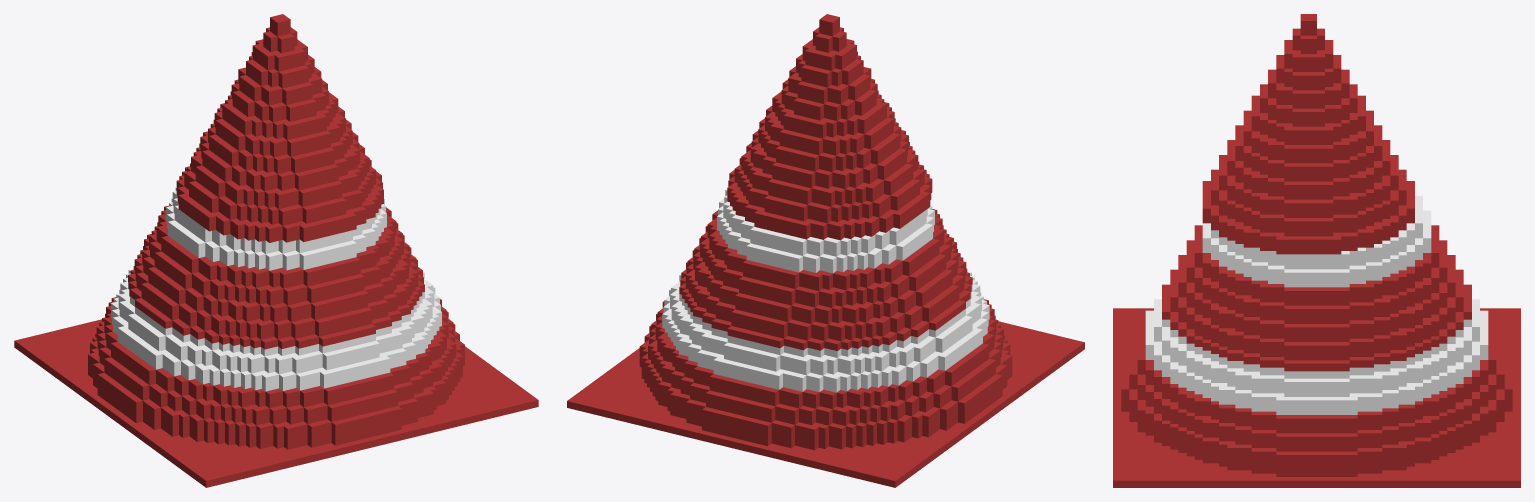
The model's file is Traffic cone.obj.
3 views of the same model, side by side, from view 1: azimuth 30°, elevation 25°; view 2: azimuth 150°, elevation 25°; view 3: azimuth 270°, elevation 25° (orthographic). The views are drawn at different scales.
Bounding box in the file's own units: 5 × 5.2 × 5.
1 material, 1 textured.
